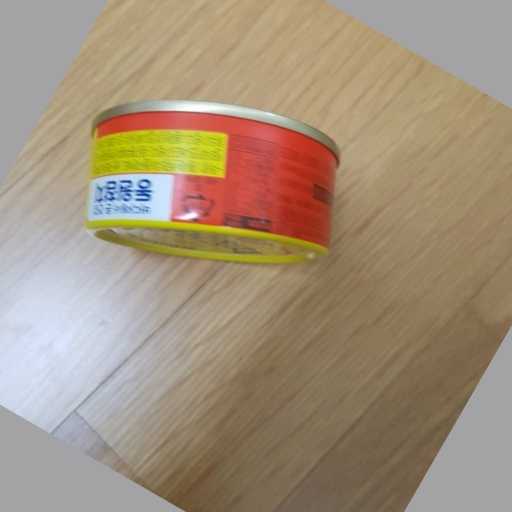Metal_1: (82, 99, 343, 272)
